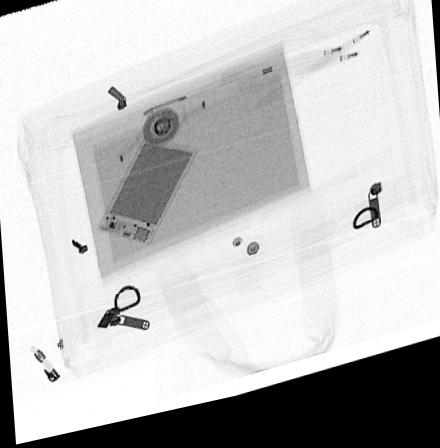Powerbank: (95, 136, 199, 250)
